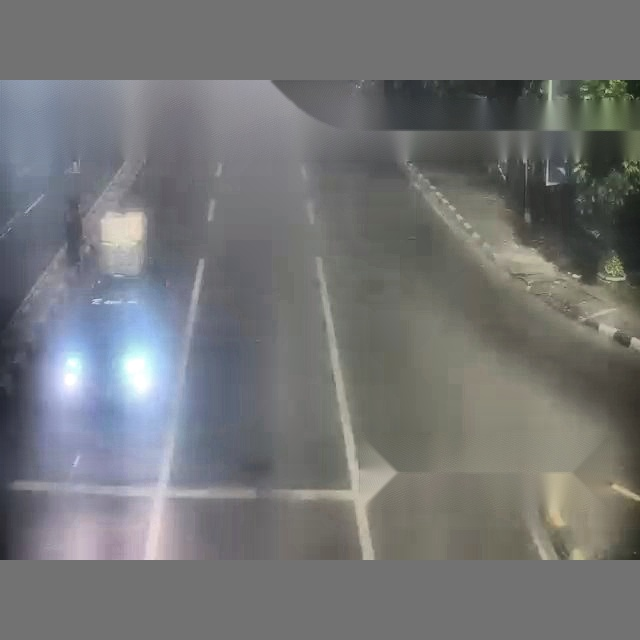Motor: (101, 210, 145, 276)
Truk: (318, 108, 640, 556)
